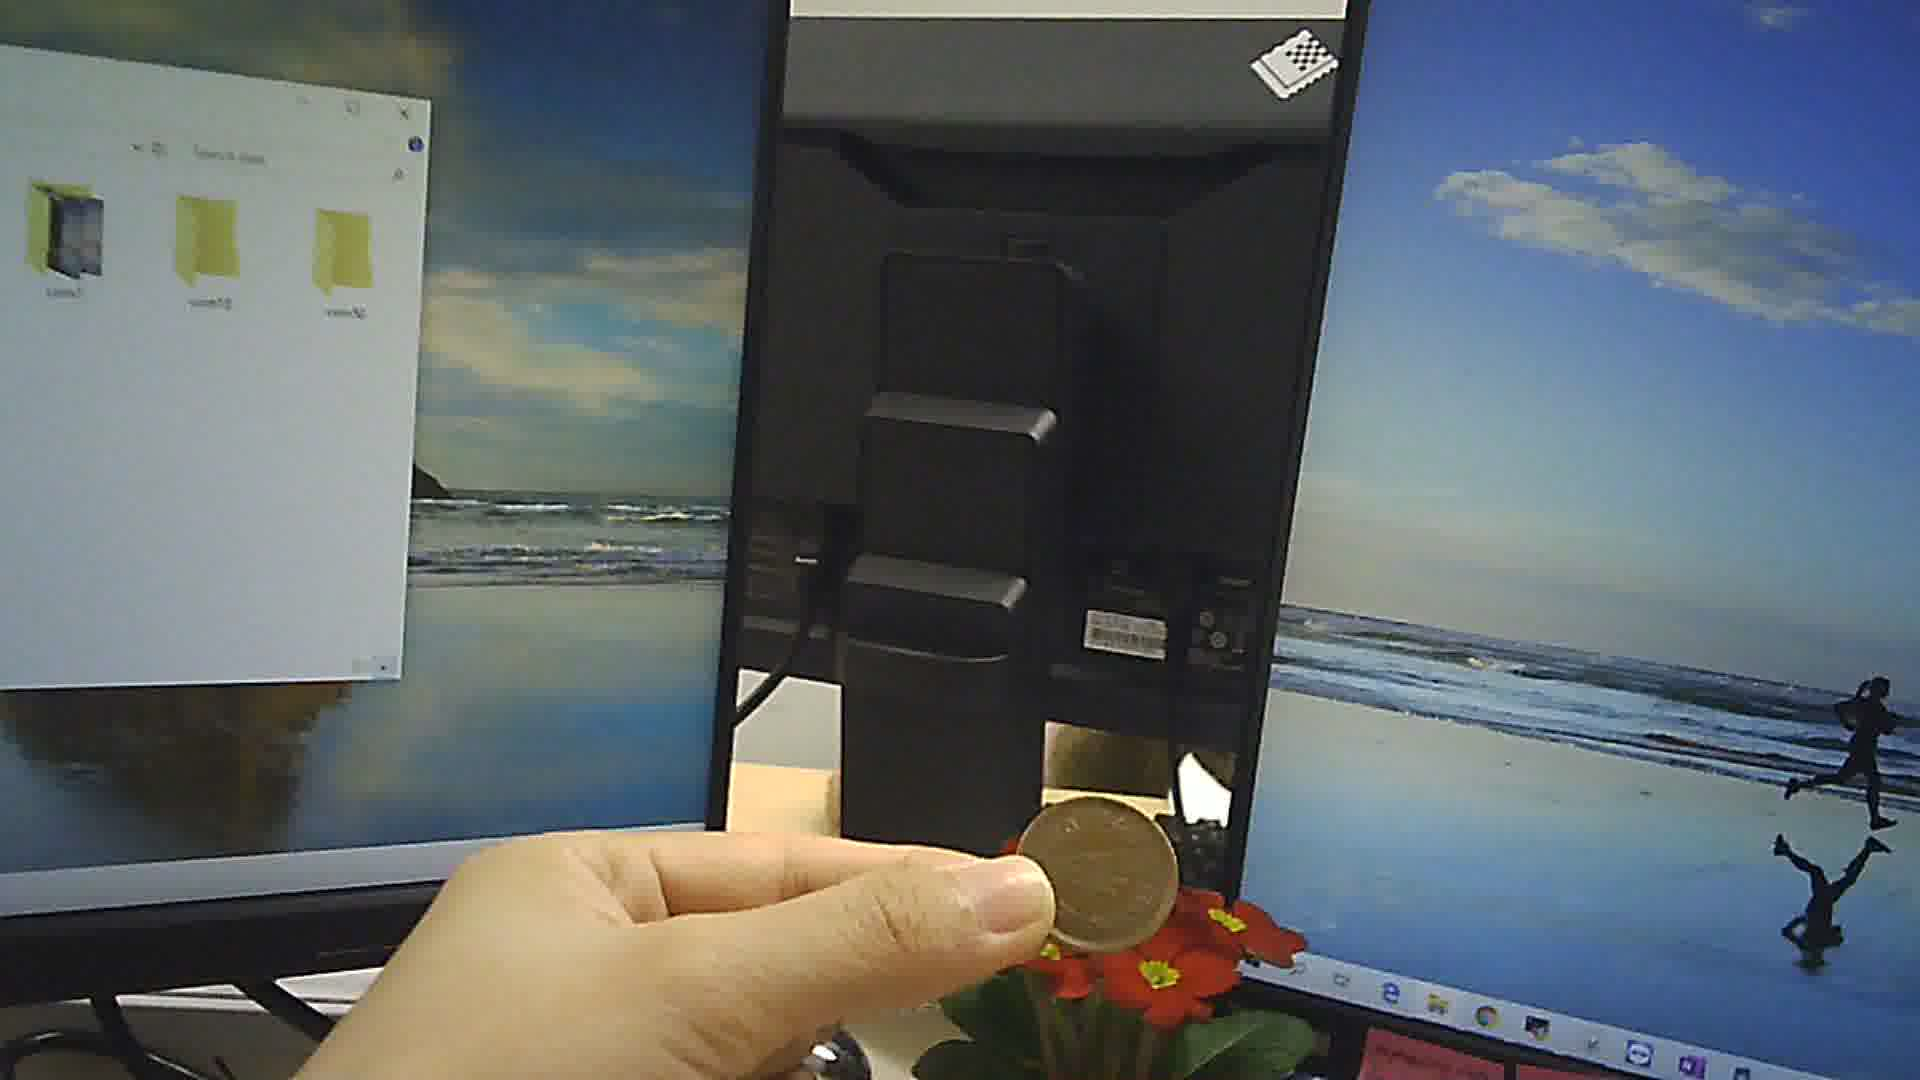10 Yen: (1006, 794, 1182, 955)
